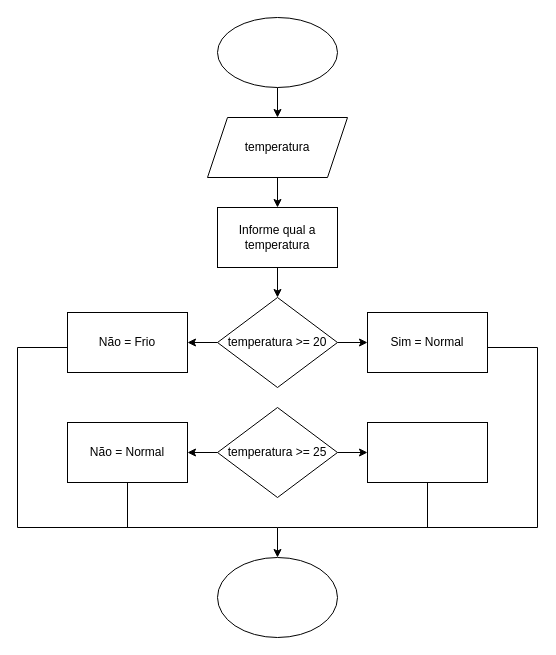
Some shapes in this 556 by 655 pixel diagram are drawn without their labels. Each missing label, with the centre of its shape:
"Fim" goes at (277,597).
"Início" goes at (277,52).
"Sim = Quente" goes at (427,452).
